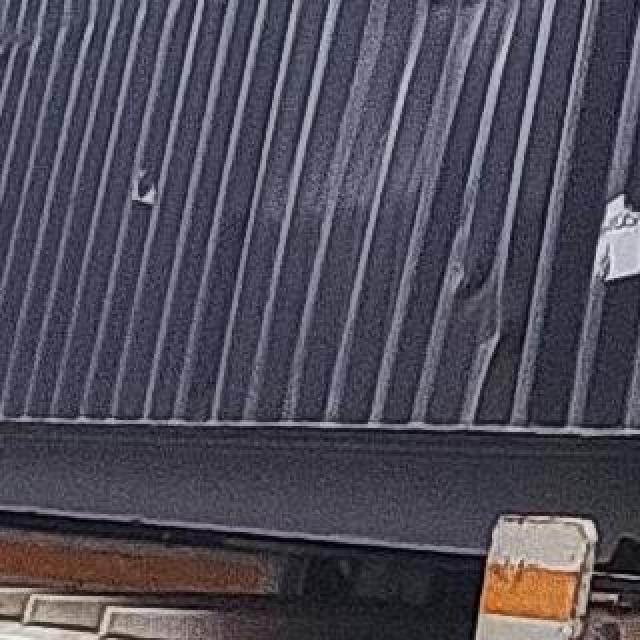dent: (421, 215, 527, 365)
